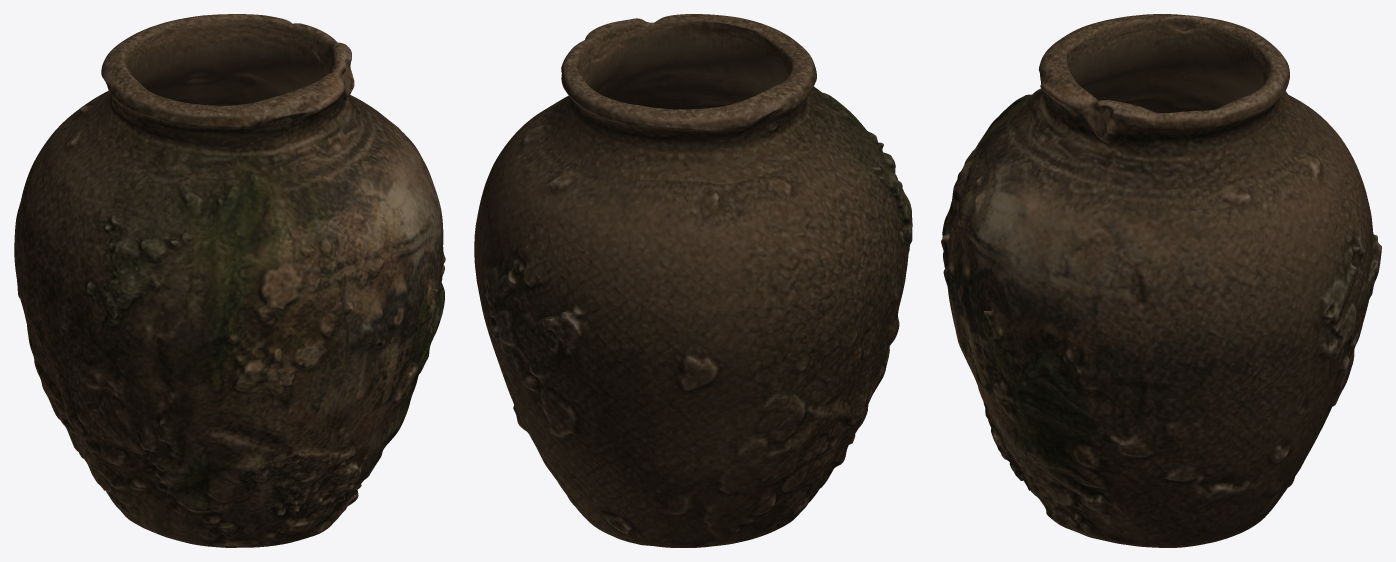
File: Meshy_AI_Ancient_Earthenware_J_1018145030_texture.fbx
3 views of the same model, side by side, from view 1: azimuth 30°, elevation 25°; view 2: azimuth 150°, elevation 25°; view 3: azimuth 270°, elevation 25° (orthographic).
Visible parts, largest first — view 1: Mesh_0; view 2: Mesh_0; view 3: Mesh_0.
Boxes of the visible parts, box(x1,y1,x2,y2) form: Mesh_0: box(14, 14, 445, 547); Mesh_0: box(474, 14, 912, 547); Mesh_0: box(941, 14, 1381, 547).
Bounding box in the file's own units: 165 × 190 × 170.
1 material, 1 textured.
